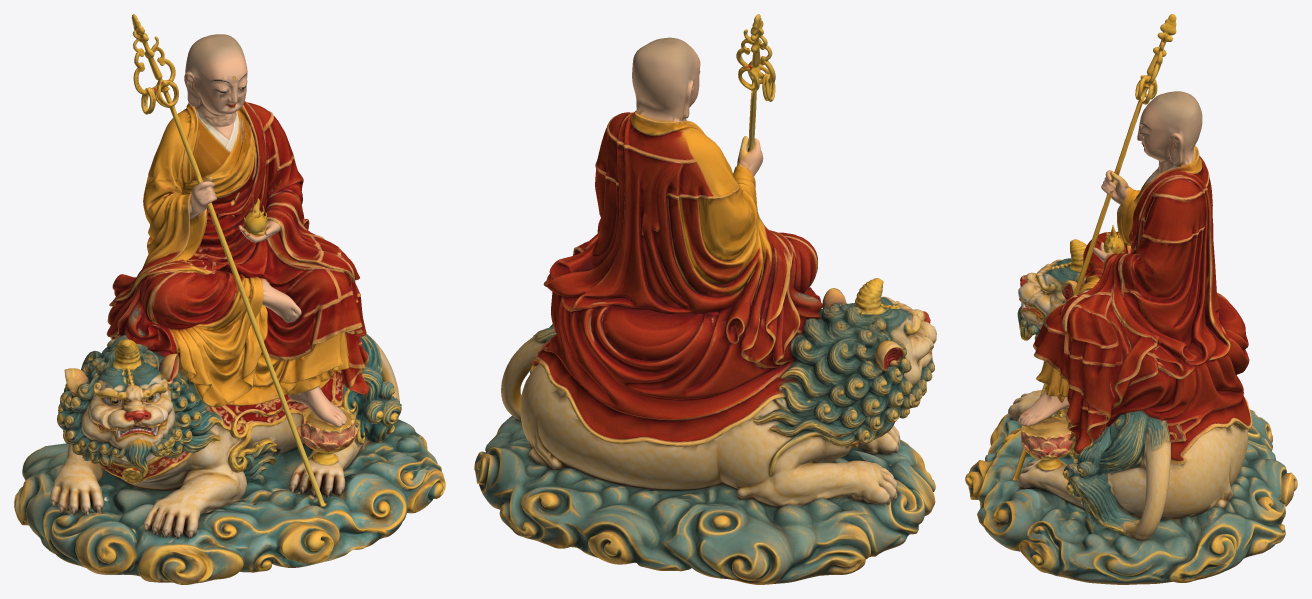
The model's file is ksitigarbha.glb.
3 renders of one model, left to right at view 1: azimuth 30°, elevation 25°; view 2: azimuth 150°, elevation 25°; view 3: azimuth 270°, elevation 25°, orthographic. The views are drawn at different scales.
Parts seen in each view (by area): view 1: mesh-q; view 2: mesh-q; view 3: mesh-q.
Boxes of the visible parts, x1,y1,x2,y2 form: mesh-q: (14,14,445,584); mesh-q: (474,14,936,584); mesh-q: (965,14,1297,584).
Size of the model in its own units: 1.44 by 1.78 by 1.18.
Materials: 1 (1 with a texture image).
